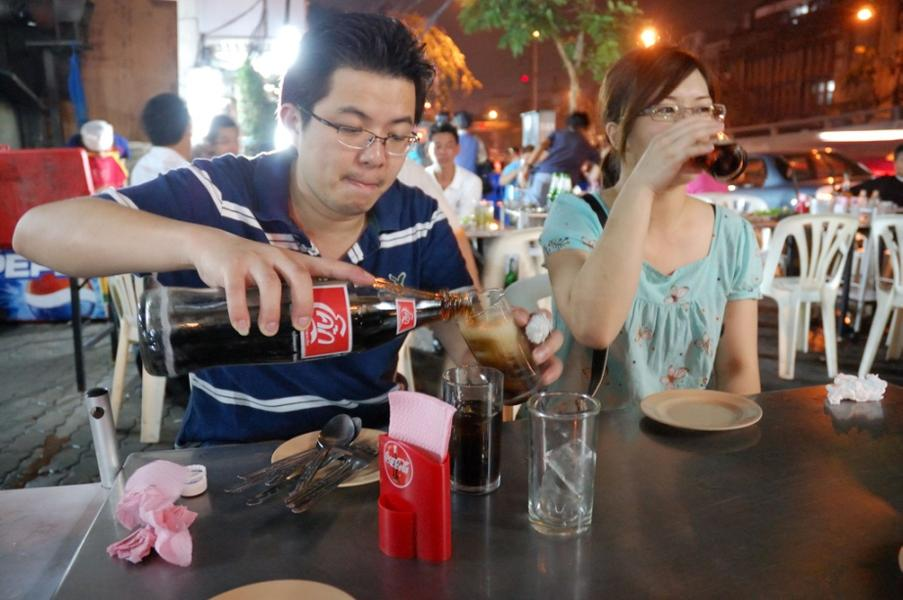person: (12, 16, 570, 456)
